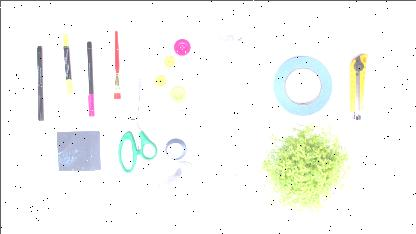Plastic Bottle: (201, 28, 259, 184)
